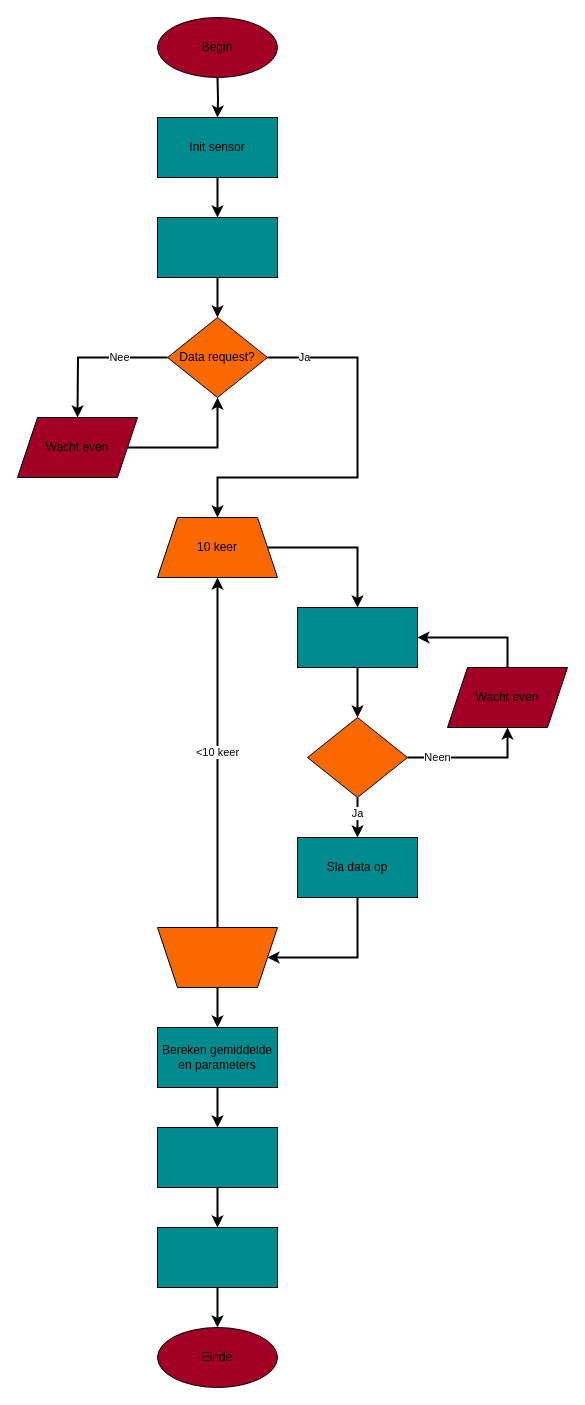
Image size: 585x1405. Some labels were removed from this diagram. Here are the shapes that lost their labels. From the top down, the box of each, then its label:
(156, 216, 278, 278): Init OLED
(296, 606, 418, 668): Request sensor data
(306, 716, 408, 798): Foutloos?
(156, 1126, 278, 1188): Update display
(156, 1226, 278, 1288): Verstuur data naar master
